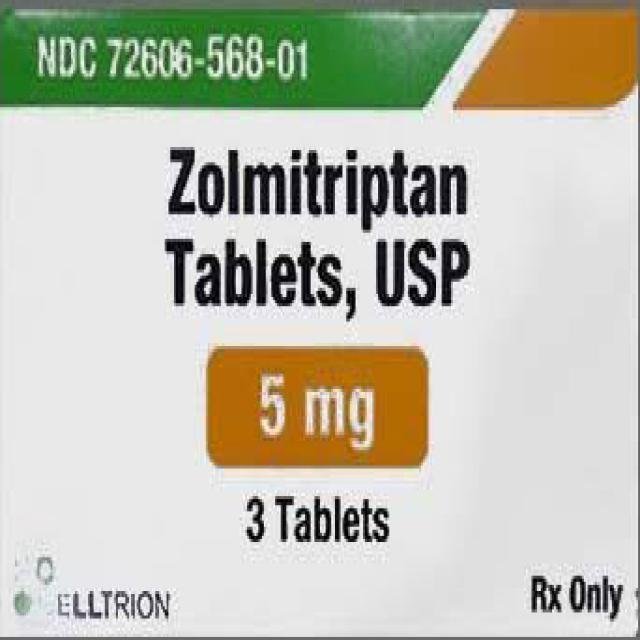drug-name: (165, 138, 473, 232)
